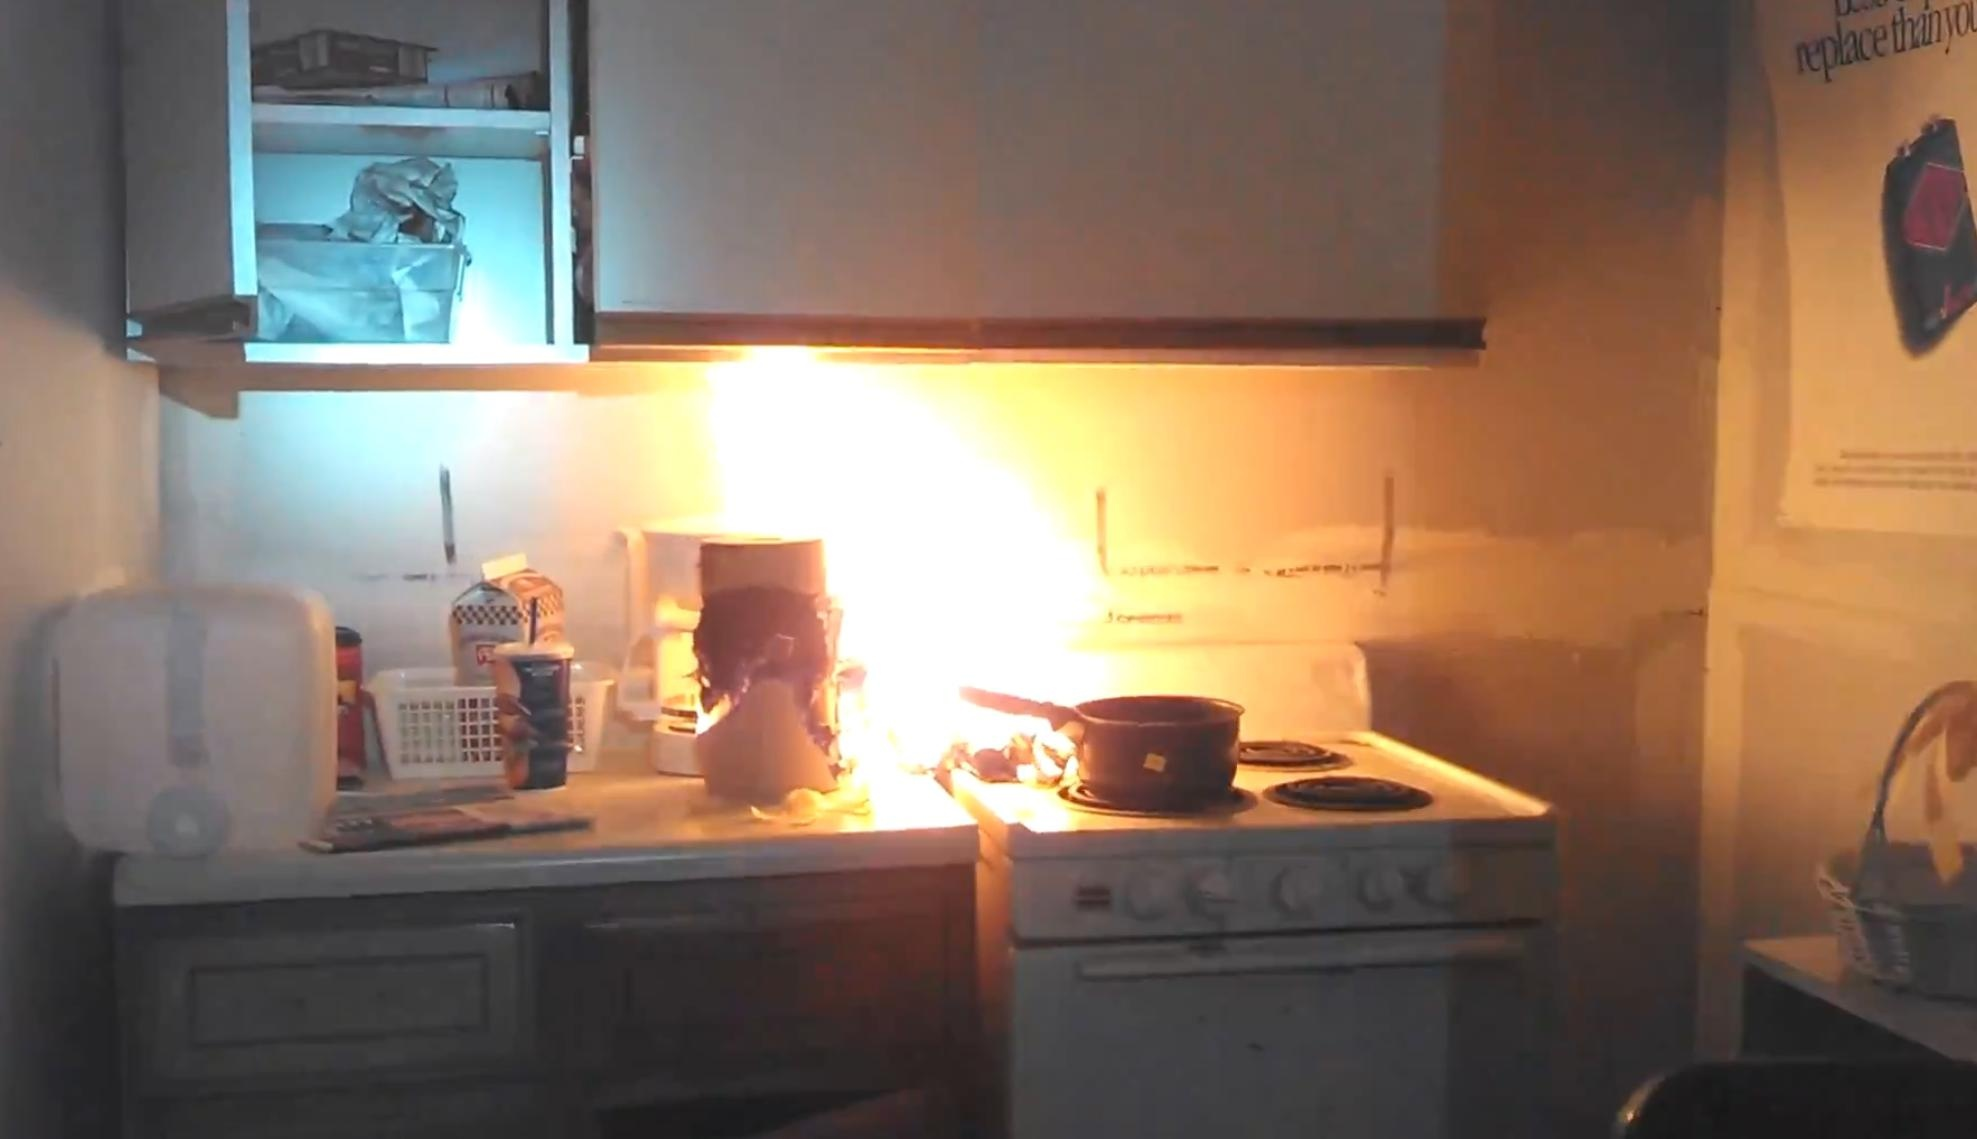fire: (684, 338, 1120, 829)
